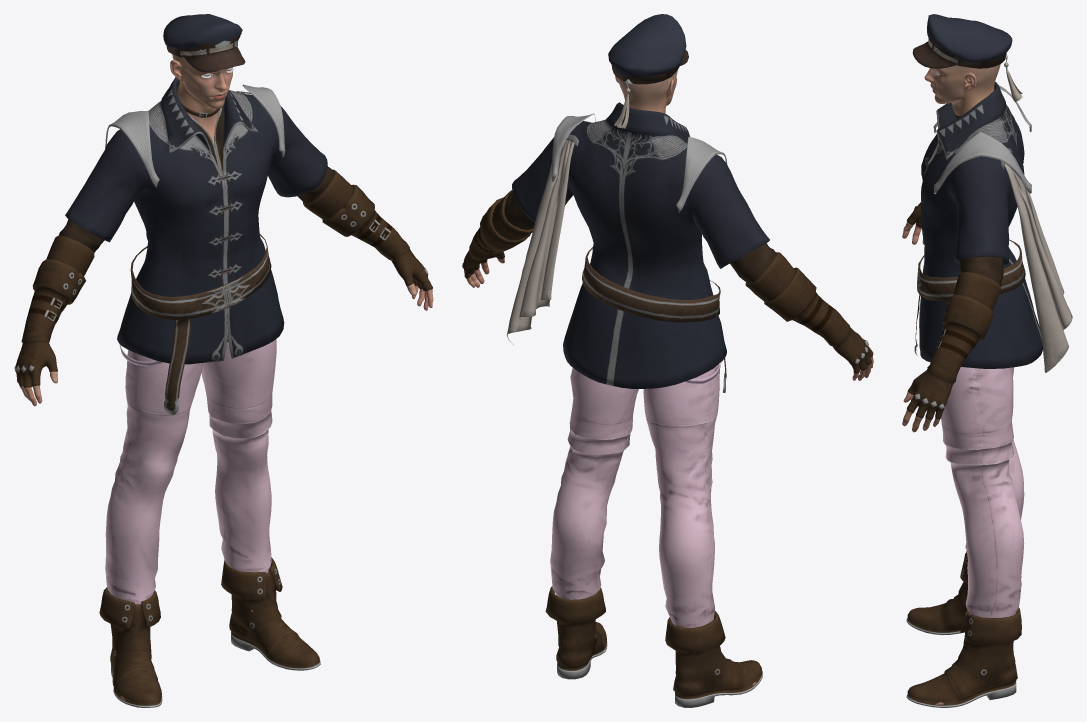
3 renders of one model, left to right at view 1: azimuth 30°, elevation 25°; view 2: azimuth 150°, elevation 25°; view 3: azimuth 270°, elevation 25°, orthographic.
Parts seen in each view (by area): view 1: GM_0176_T02_Body, GM_0176_T02_Pants, GM_0176_T02_Boots, GM_0176_T02_Glove, GM_0176_T02_Helmet, GM_BaseHead, GM_0176_T02_Shoulder; view 2: GM_0176_T02_Body, GM_0176_T02_Pants, GM_0176_T02_Boots, GM_0176_T02_Glove, GM_0176_T02_Cape, GM_0176_T02_Helmet, GM_0176_T02_Shoulder, GM_BaseHead; view 3: GM_0176_T02_Body, GM_0176_T02_Pants, GM_0176_T02_Boots, GM_0176_T02_Glove, GM_0176_T02_Cape, GM_0176_T02_Helmet, GM_BaseHead, GM_0176_T02_Shoulder.
Boxes of the visible parts, left/top/right/bottom form: GM_0176_T02_Body: left=18, top=77, right=433, bottom=415; GM_0176_T02_Pants: left=105, top=318, right=276, bottom=700; GM_0176_T02_Boots: left=99, top=557, right=320, bottom=707; GM_0176_T02_Glove: left=14, top=169, right=432, bottom=387; GM_0176_T02_Helmet: left=163, top=14, right=245, bottom=72; GM_BaseHead: left=170, top=54, right=233, bottom=123; GM_0176_T02_Shoulder: left=105, top=84, right=285, bottom=187; GM_0176_T02_Body: left=466, top=102, right=873, bottom=392; GM_0176_T02_Pants: left=550, top=362, right=756, bottom=685; GM_0176_T02_Boots: left=545, top=586, right=762, bottom=707; GM_0176_T02_Glove: left=462, top=190, right=873, bottom=373; GM_0176_T02_Cape: left=506, top=134, right=578, bottom=345; GM_0176_T02_Helmet: left=608, top=14, right=688, bottom=128; GM_0176_T02_Shoulder: left=551, top=113, right=727, bottom=212; GM_BaseHead: left=615, top=69, right=678, bottom=113; GM_0176_T02_Body: left=902, top=82, right=1042, bottom=432; GM_0176_T02_Pants: left=935, top=366, right=1024, bottom=705; GM_0176_T02_Boots: left=906, top=551, right=1021, bottom=707; GM_0176_T02_Glove: left=907, top=202, right=1001, bottom=419; GM_0176_T02_Cape: left=1001, top=148, right=1072, bottom=372; GM_0176_T02_Helmet: left=912, top=14, right=1022, bottom=102; GM_BaseHead: left=924, top=64, right=1000, bottom=115; GM_0176_T02_Shoulder: left=933, top=85, right=1031, bottom=194.
Bounding box in the file's own units: 1.24 × 1.93 × 0.4595.
Materials: 10 (9 with a texture image).
